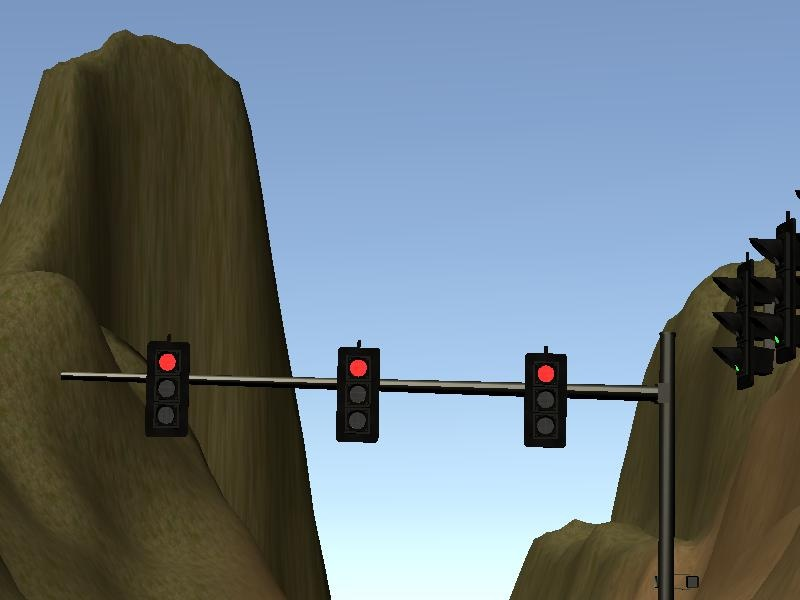RED: (143, 345, 190, 436), (337, 346, 381, 443), (522, 353, 566, 450)
